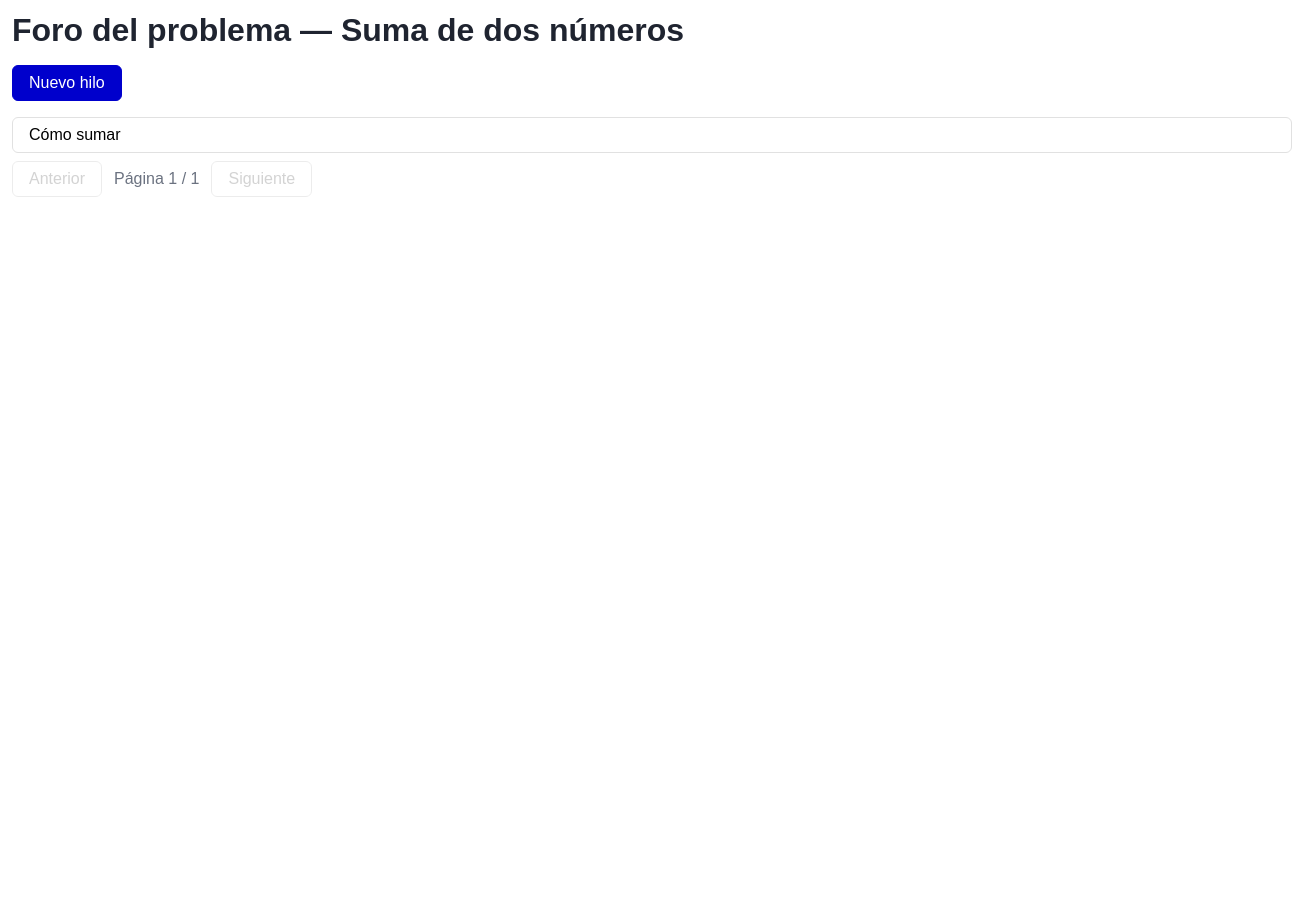
it: ThreadDetail — nested reply tree › clicking '+ N more' expands to show all the replies
Expected: the element with test id "forum-page" is shown, [12,12,1292,197]
Click the button with test id "thread-2": (75, 134) [12,117,1292,153]
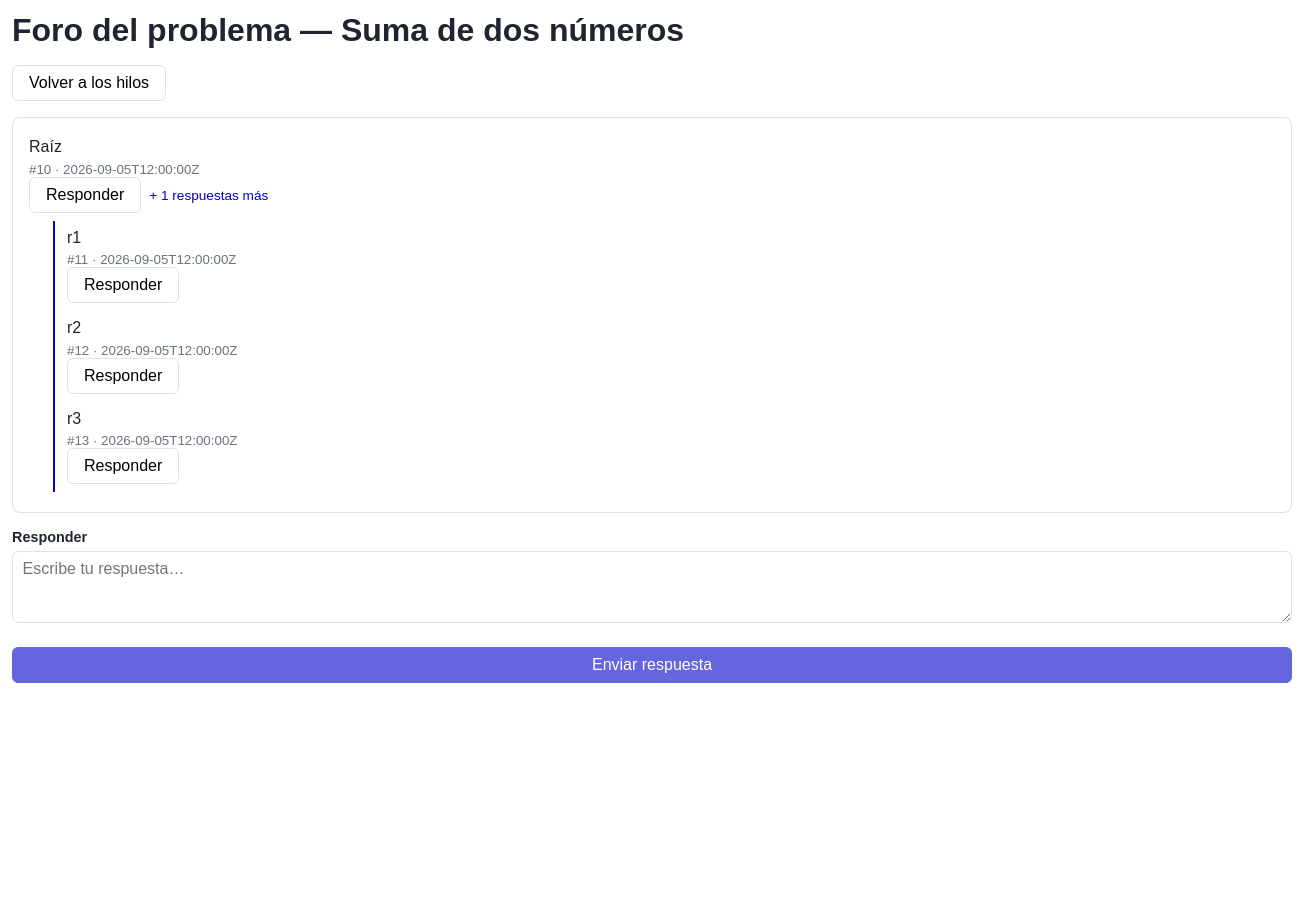
Expected: the element with test id "thread-detail" is shown
Expected: the element with test id "postnode-11" is shown, [53,221,1275,311]
Expected: the element with test id "postnode-12" is shown, [53,311,1275,402]
Click the button with test id "show-more-10": (209, 195) [141,184,276,207]
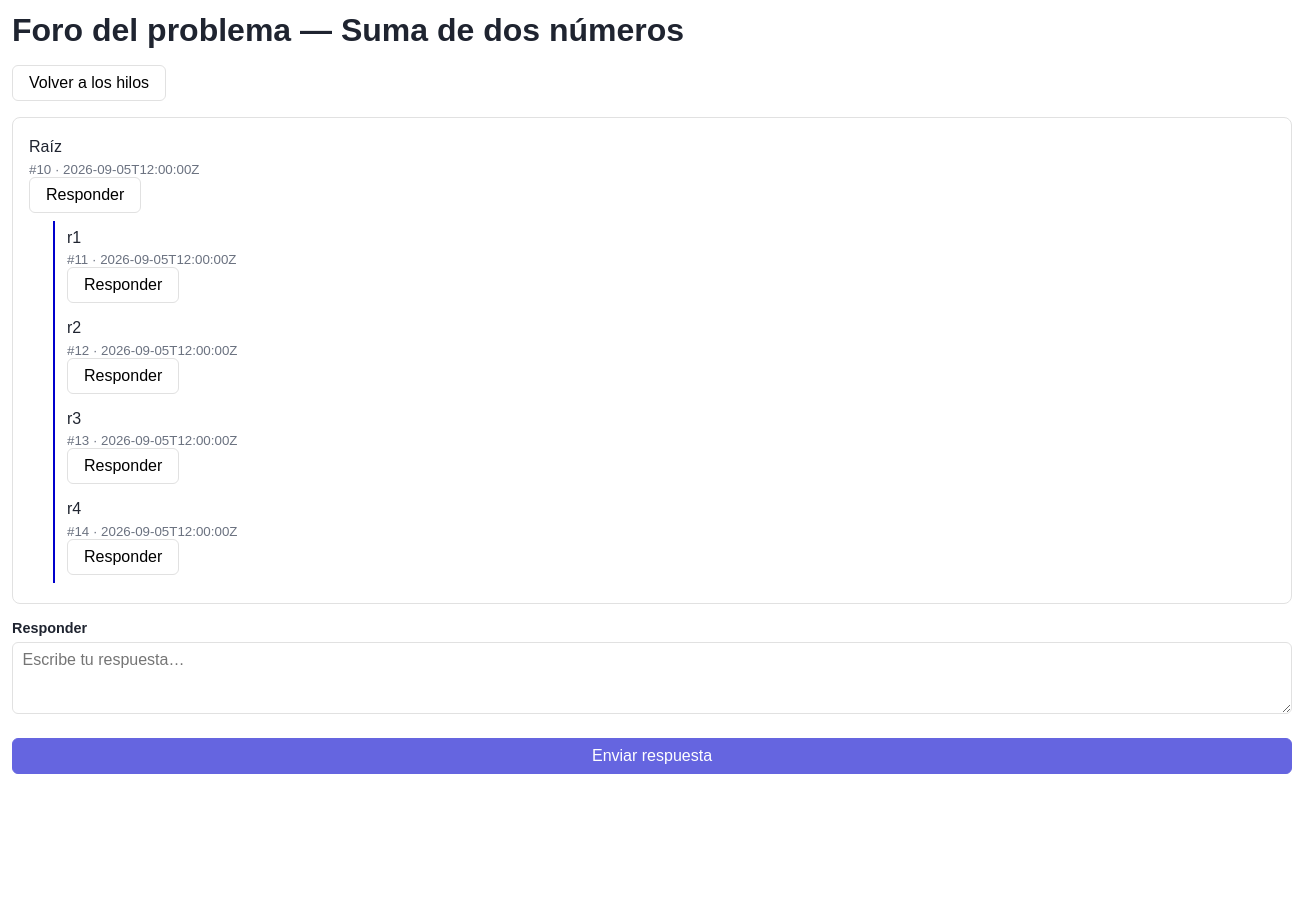
Expected: the element with test id "postnode-14" is shown, [53,492,1275,583]
Expected: the button with test id "show-more-10" is gone
